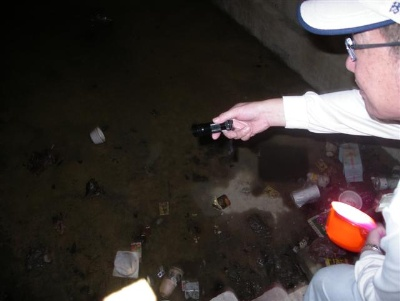bottle: (159, 265, 185, 299), (292, 184, 321, 207)
bowl: (326, 201, 374, 252), (338, 190, 363, 212), (89, 125, 106, 145)
